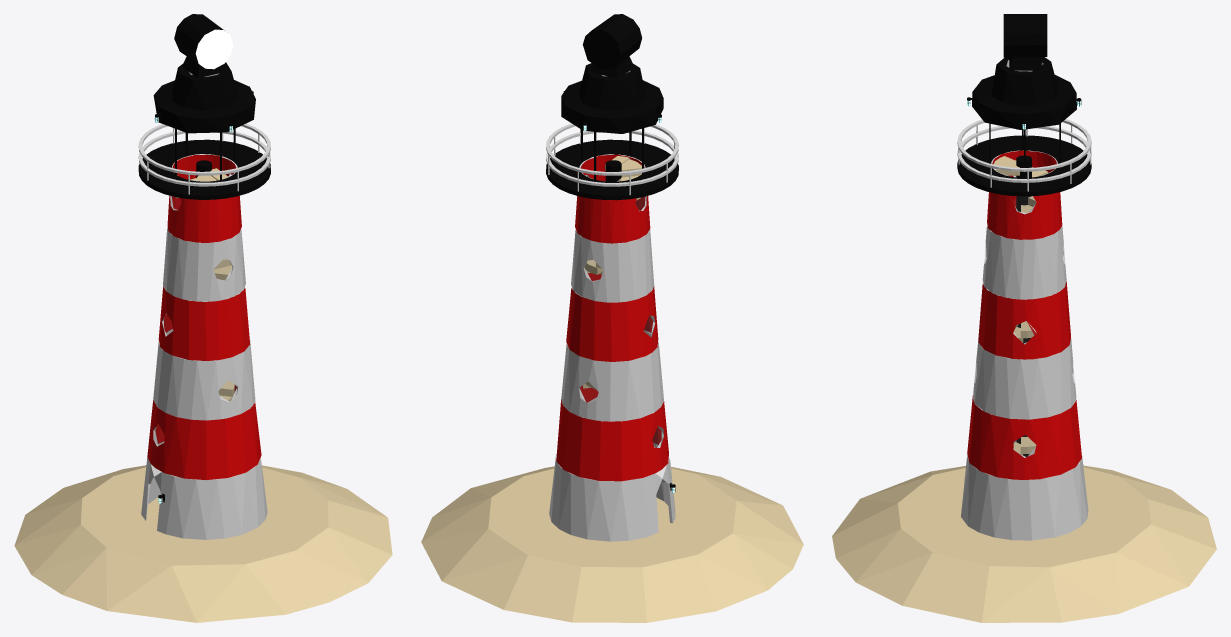
The model's file is Lighthouse.glb.
3 renders of one model, left to right at view 1: azimuth 30°, elevation 25°; view 2: azimuth 150°, elevation 25°; view 3: azimuth 270°, elevation 25°, orthographic.
Visible parts, largest first — view 1: Base, Body, Lighthouse Top, Top, Light, Railing, Stairs; view 2: Base, Body, Lighthouse Top, Top, Light, Railing, Stairs; view 3: Base, Body, Lighthouse Top, Top, Railing, Light, Stairs.
Part boxes in pixels (x1=…): Base: x1=14, y1=465, x2=392, y2=622; Body: x1=141, y1=154, x2=267, y2=539; Lighthouse Top: x1=153, y1=62, x2=255, y2=133; Top: x1=138, y1=139, x2=270, y2=199; Light: x1=174, y1=14, x2=233, y2=78; Railing: x1=138, y1=123, x2=270, y2=194; Stairs: x1=176, y1=175, x2=234, y2=401; Base: x1=421, y1=466, x2=803, y2=622; Body: x1=549, y1=154, x2=675, y2=541; Lighthouse Top: x1=561, y1=63, x2=663, y2=133; Top: x1=546, y1=139, x2=678, y2=200; Light: x1=582, y1=14, x2=641, y2=78; Railing: x1=546, y1=123, x2=678, y2=195; Stairs: x1=582, y1=159, x2=641, y2=389; Base: x1=832, y1=465, x2=1216, y2=622; Body: x1=961, y1=150, x2=1088, y2=540; Lighthouse Top: x1=972, y1=57, x2=1076, y2=129; Top: x1=957, y1=135, x2=1091, y2=196; Railing: x1=957, y1=119, x2=1091, y2=191; Light: x1=1003, y1=14, x2=1047, y2=70; Stairs: x1=993, y1=156, x2=1048, y2=455.
Size of the model in its own units: 18.19 by 27.7 by 18.35.
